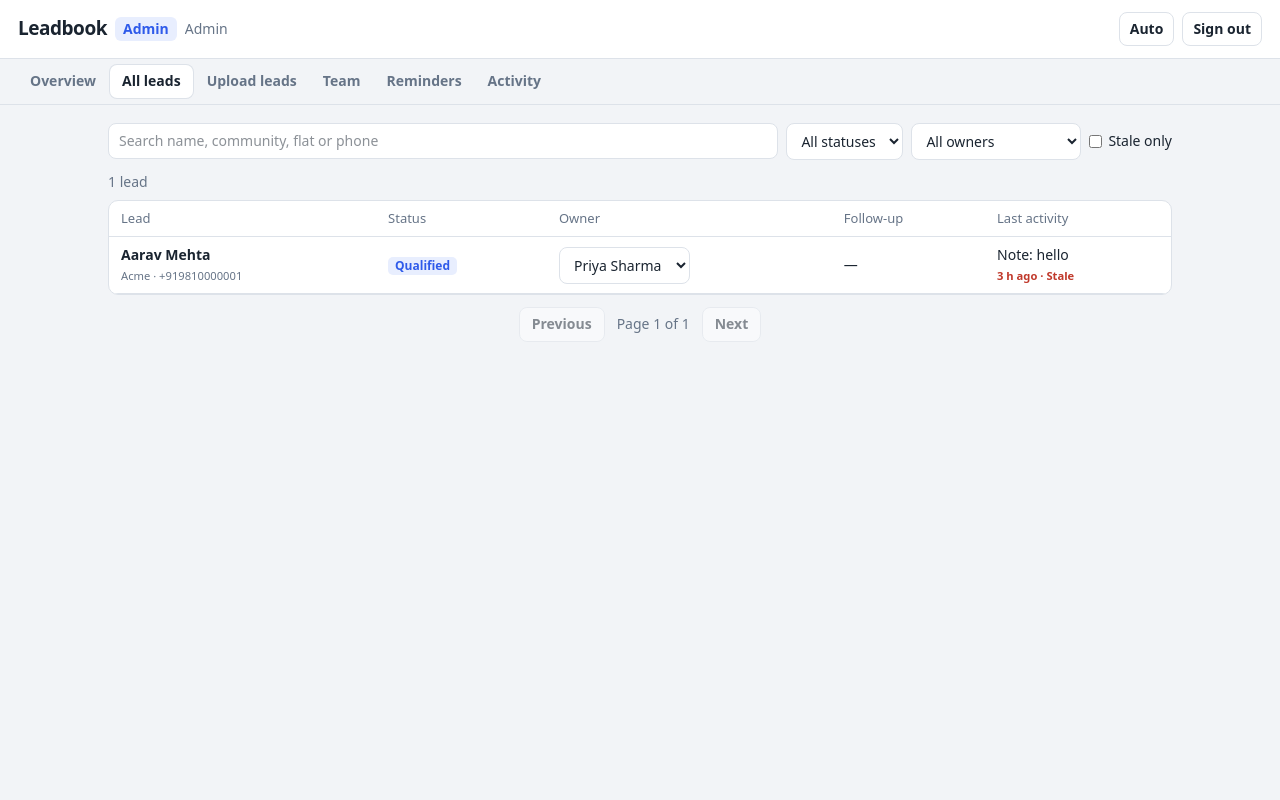
Test: All leads (7.2) and the read-only drawer (7.3) › opens a read-only drawer with the full history, and closes with Escape
Click the button "Aarav Mehta" at (166, 255), box [121,245,210,265]
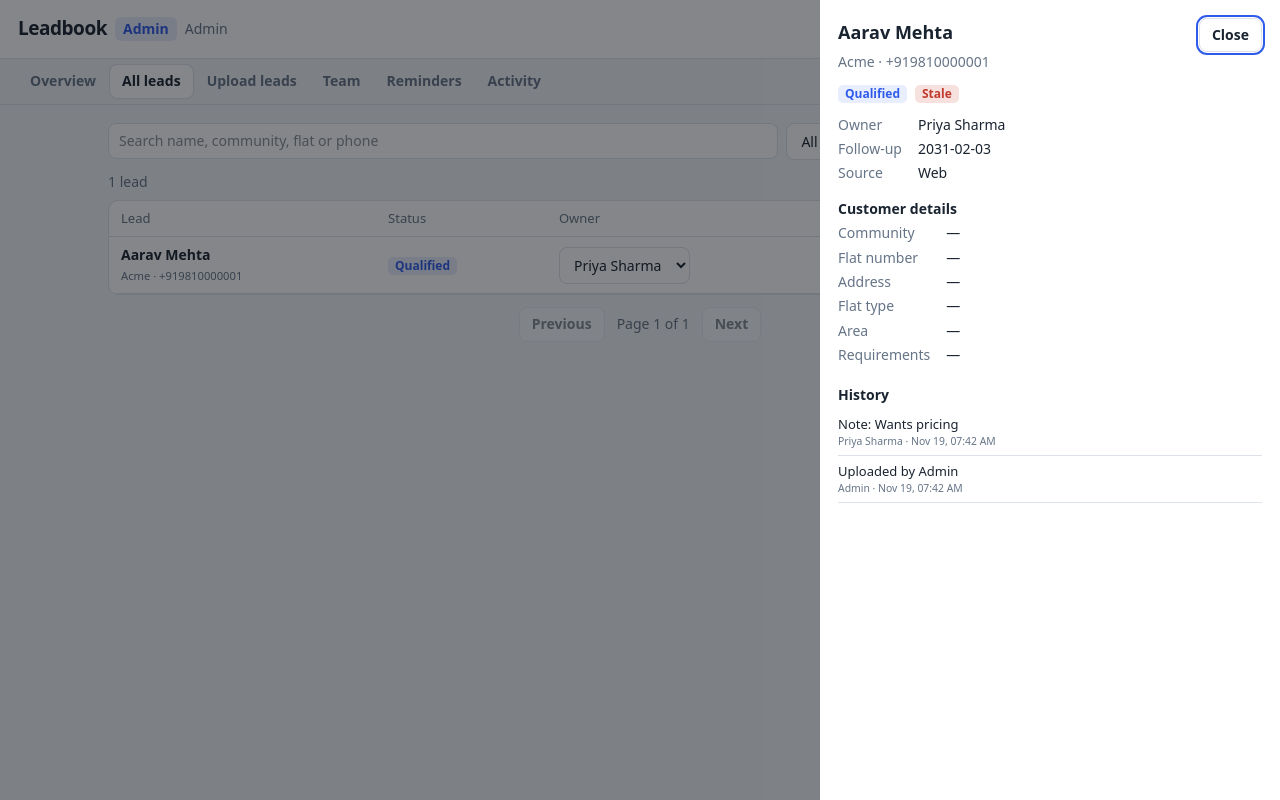
Expected: the list item "Note: Wants pricing" is shown, [838,415,958,433]
Expected: the list item "Uploaded by Admin" is shown, [838,462,958,480]
Expected: the text "2031-02-03" is shown, [918,139,991,158]
Press Escape
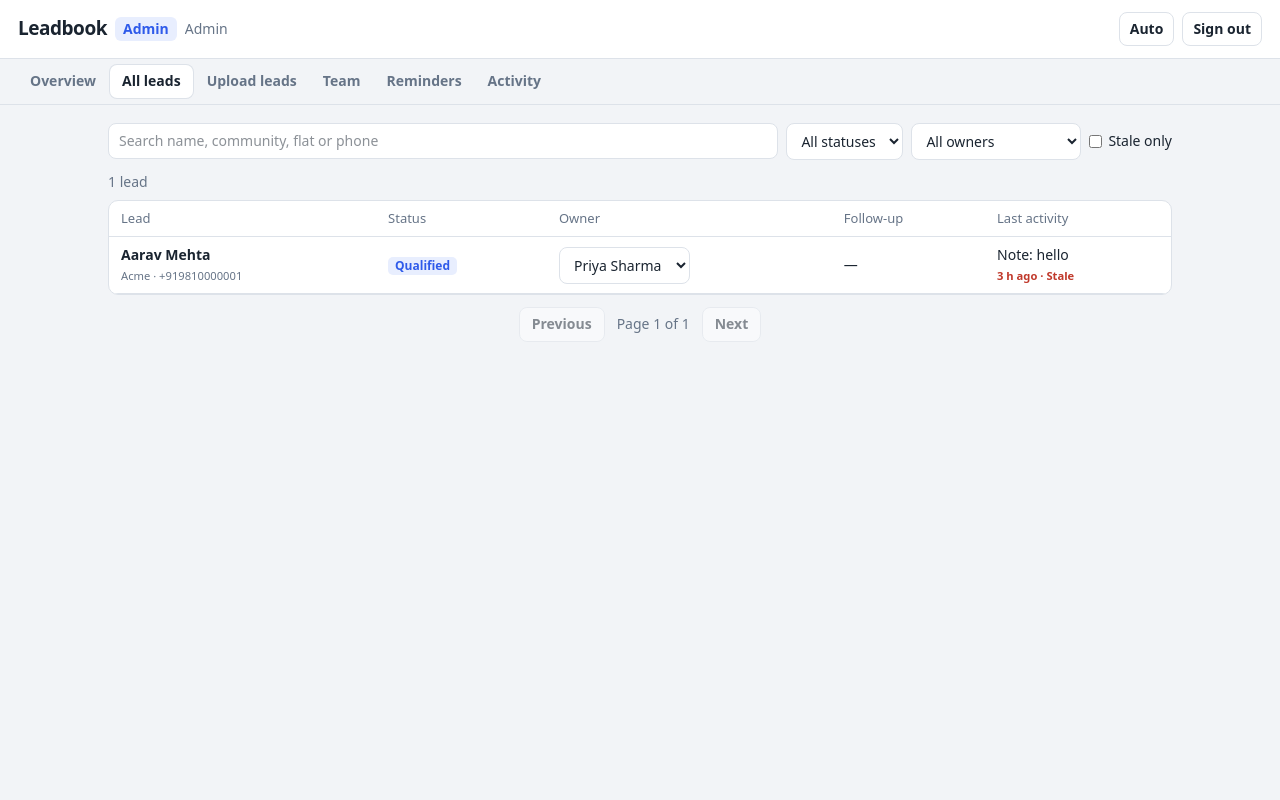
Expected: the dialog is gone
